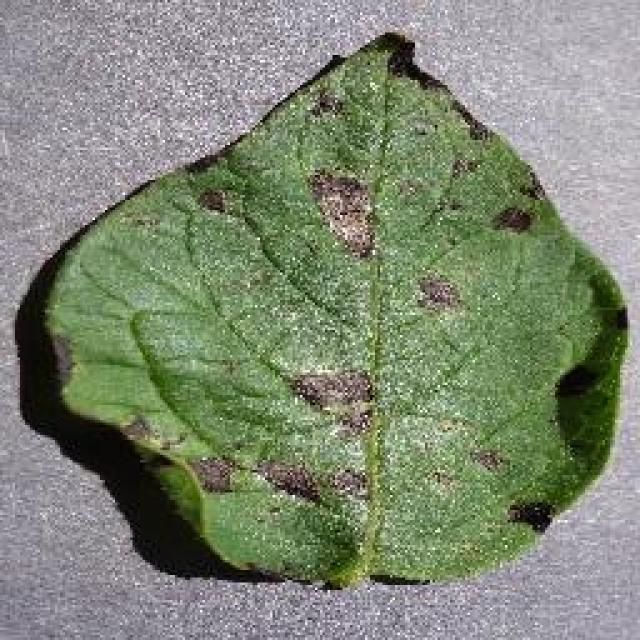early_blight: (38, 28, 632, 592)
